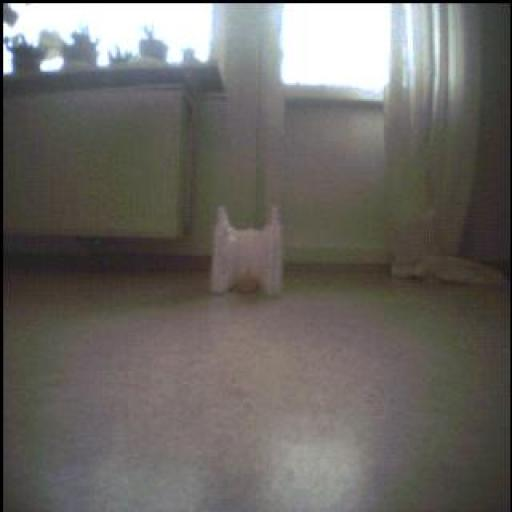Basket: (237, 263, 262, 298)
